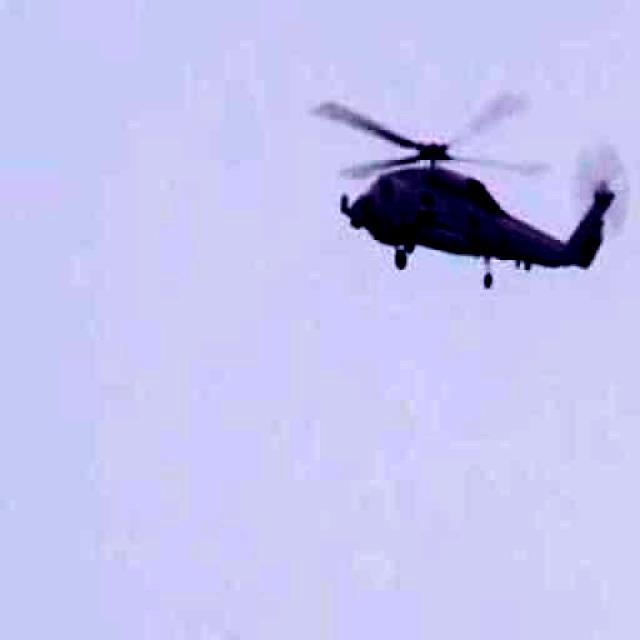drone: (264, 22, 640, 315)
